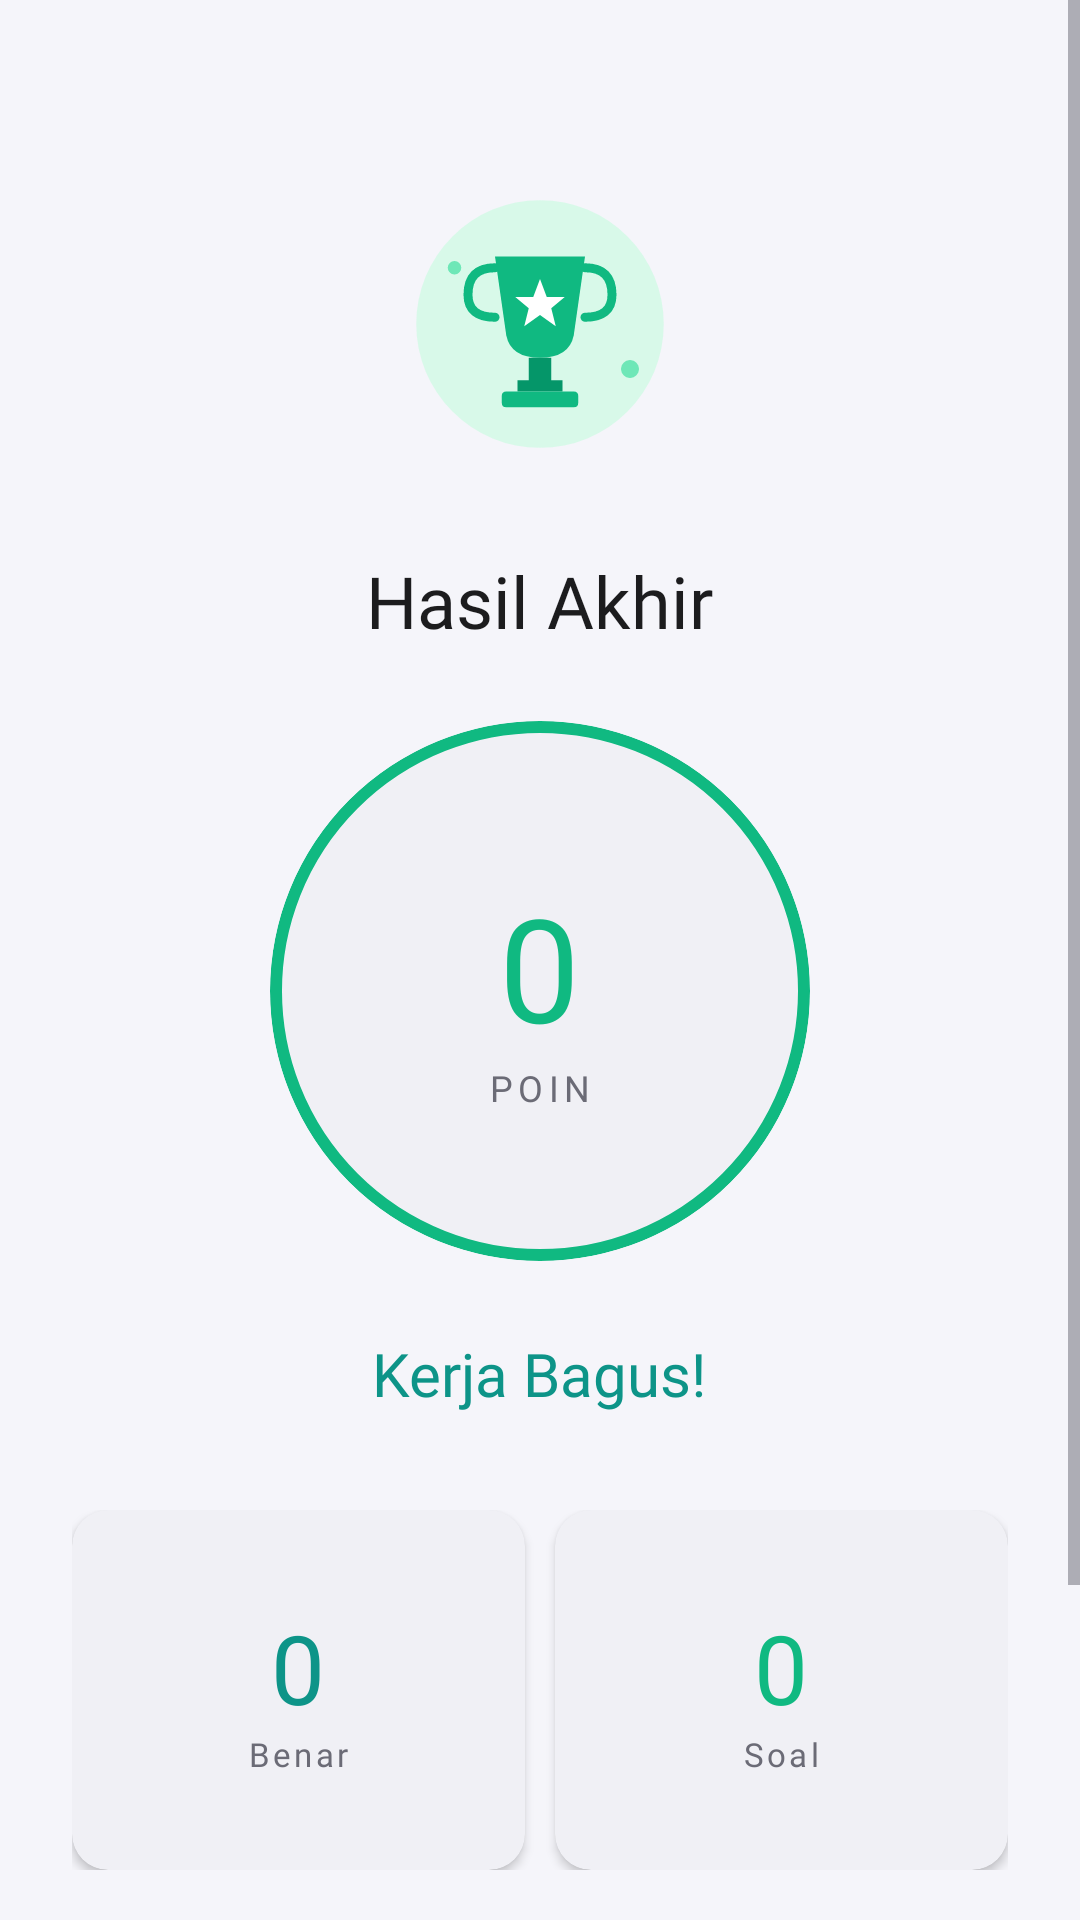

Where to tap for icons on this 1080 × 1920 app screen, as (x=x, y=y):
Ilustrasi piala: (x=540, y=324)
